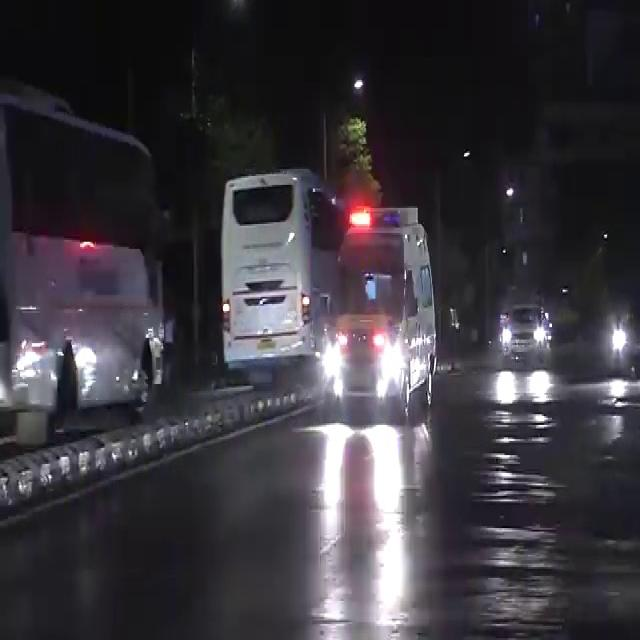ambulance: (314, 200, 434, 428)
